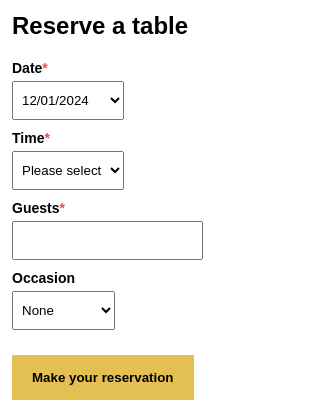
Submit button is disabled when booking form fields are invalid
Click the button with test id "submit" at (103, 377), box left=12, top=355, right=194, bottom=400
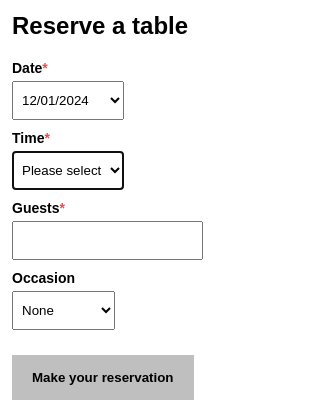
Check: the button with test id "submit" is disabled, box left=12, top=355, right=194, bottom=400
